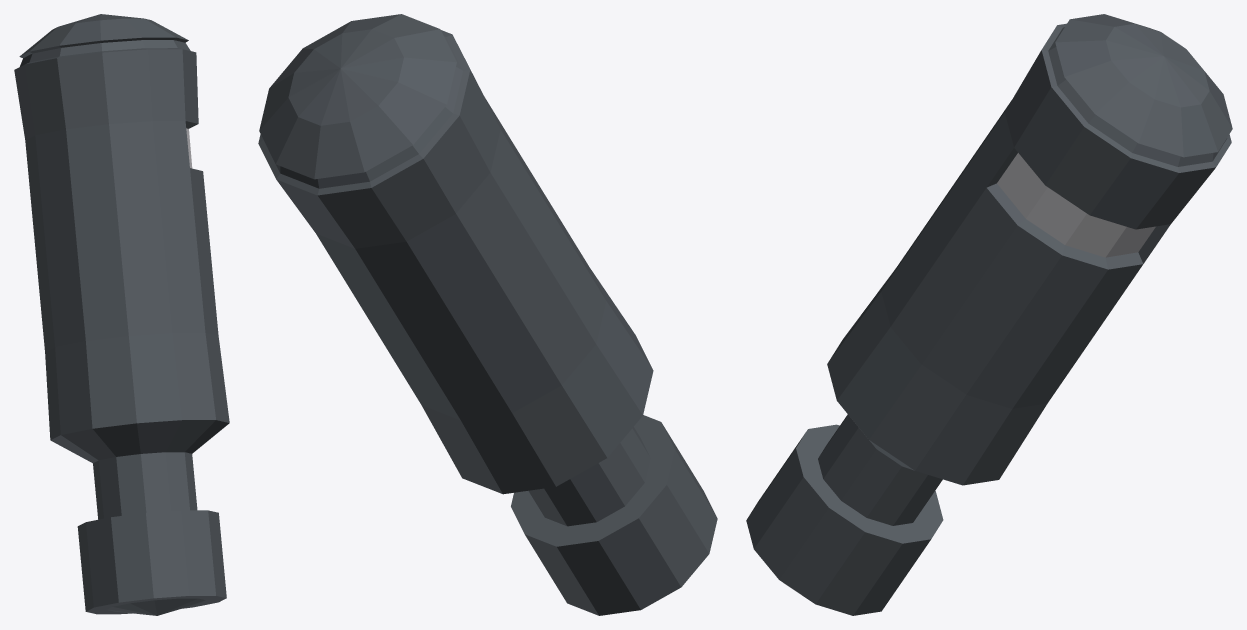
File: Personal_Vehicle_02_Detail_4.fbx
3 renders of one model, left to right at view 1: azimuth 30°, elevation 25°; view 2: azimuth 150°, elevation 25°; view 3: azimuth 270°, elevation 25°, orthographic. The views are drawn at different scales.
Visible parts, largest first — view 1: Personal_Vehicle_02_Detail_4; view 2: Personal_Vehicle_02_Detail_4; view 3: Personal_Vehicle_02_Detail_4.
Part boxes in pixels (bbox=[...]): Personal_Vehicle_02_Detail_4: bbox=[14, 14, 229, 615]; Personal_Vehicle_02_Detail_4: bbox=[258, 14, 717, 615]; Personal_Vehicle_02_Detail_4: bbox=[746, 14, 1232, 615].
Size of the model in its own units: 24.66 by 54.51 by 39.57.
Materials: 1 (1 with a texture image).
